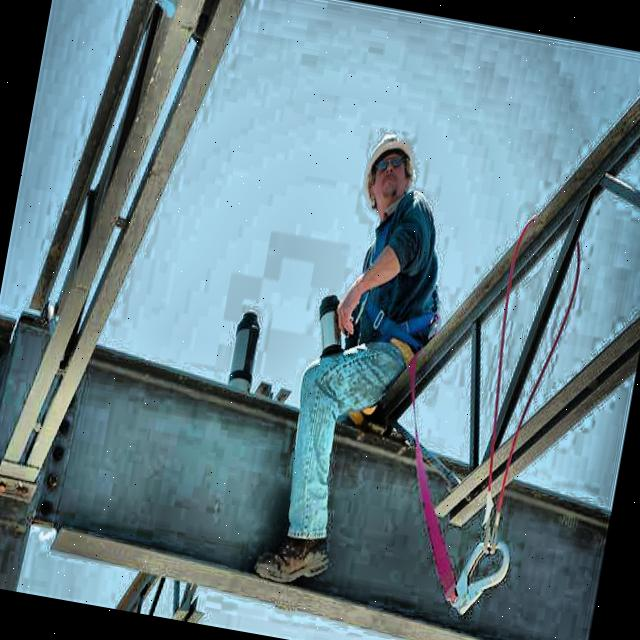helmet: (352, 116, 428, 237)
